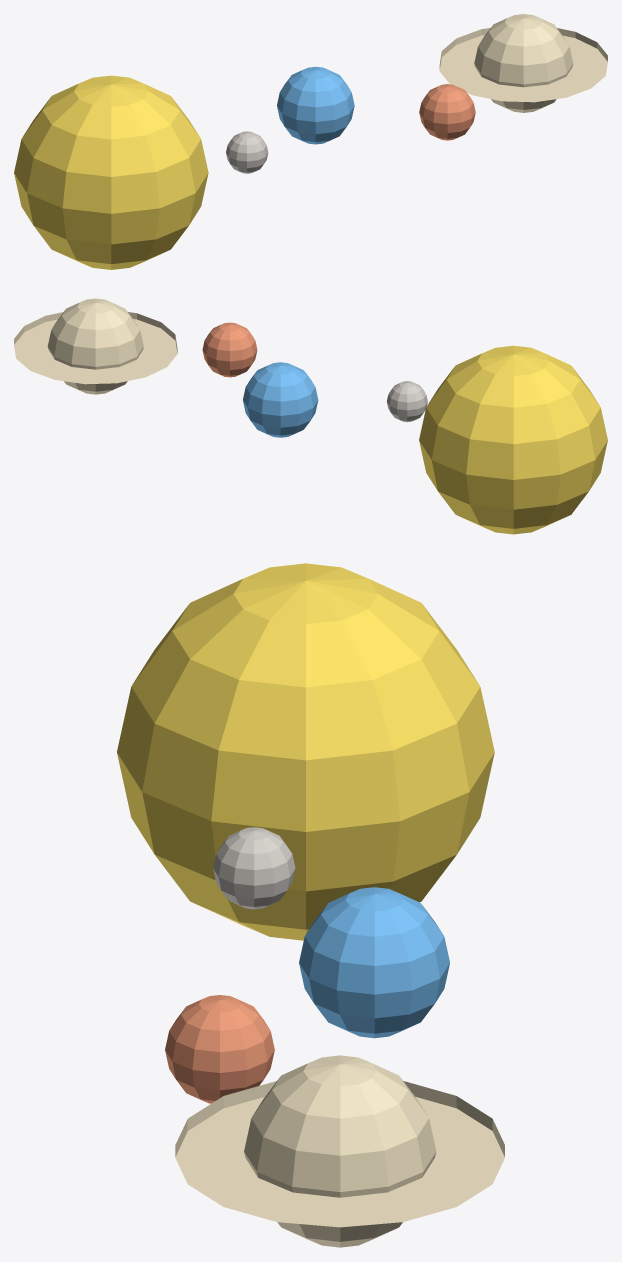
Rendered from solar_system.glb.
3 renders of one model, top to bottom at view 1: azimuth 30°, elevation 25°; view 2: azimuth 150°, elevation 25°; view 3: azimuth 270°, elevation 25°, orthographic. The views are drawn at different scales.
Parts seen in each view (by area): view 1: Sun, Saturn_Rings, Earth, Mars, Mercury; view 2: Sun, Saturn_Rings, Earth, Mars, Mercury; view 3: Sun, Saturn_Rings, Earth, Mars, Mercury.
Part boxes in pixels (x1,y1,x2,y2): Sun: [14, 75, 208, 269]; Saturn_Rings: [439, 14, 607, 112]; Earth: [277, 66, 354, 144]; Mars: [419, 84, 475, 140]; Mercury: [226, 131, 268, 173]; Sun: [419, 345, 607, 534]; Saturn_Rings: [14, 298, 177, 394]; Earth: [243, 362, 318, 437]; Mars: [202, 322, 257, 377]; Mercury: [386, 381, 427, 422]; Sun: [117, 563, 494, 940]; Saturn_Rings: [175, 1055, 504, 1247]; Earth: [299, 887, 449, 1038]; Mars: [165, 995, 274, 1103]; Mercury: [213, 827, 295, 909].
Bounding box in the file's own units: 3.78 × 1.1 × 1.13.
